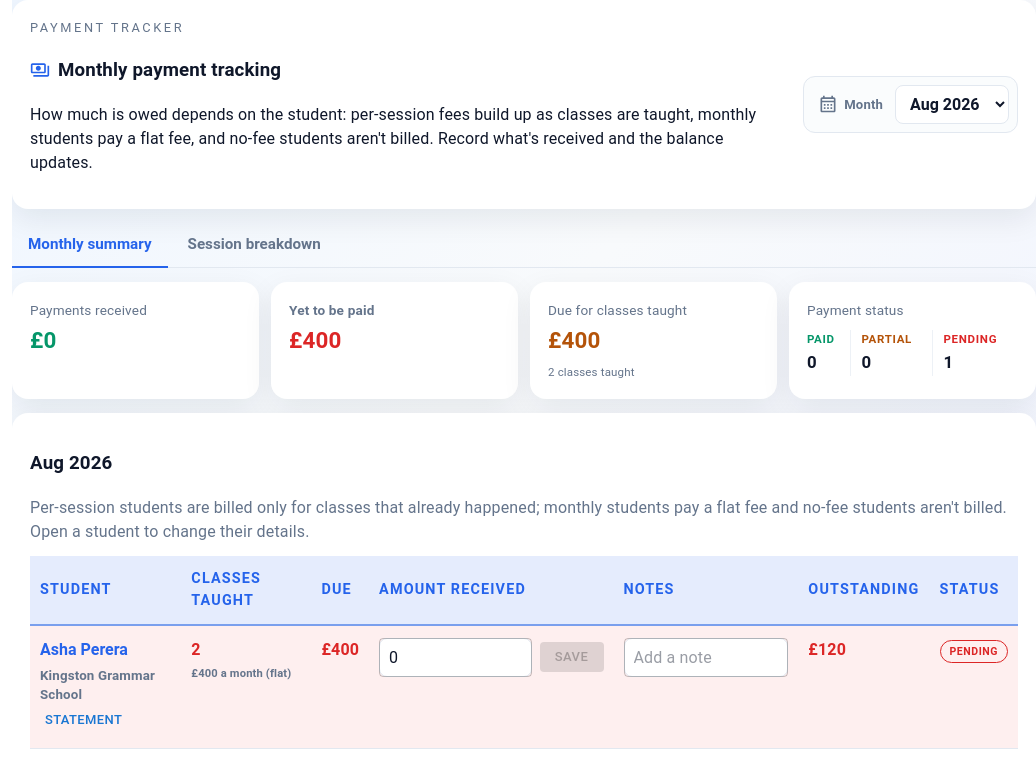
Test: PaymentTrackerView session breakdown › totals a monthly student once, without double-counting their classes
Click the tab "Session breakdown" at {"x": 254, "y": 245}, box [172, 223, 337, 268]
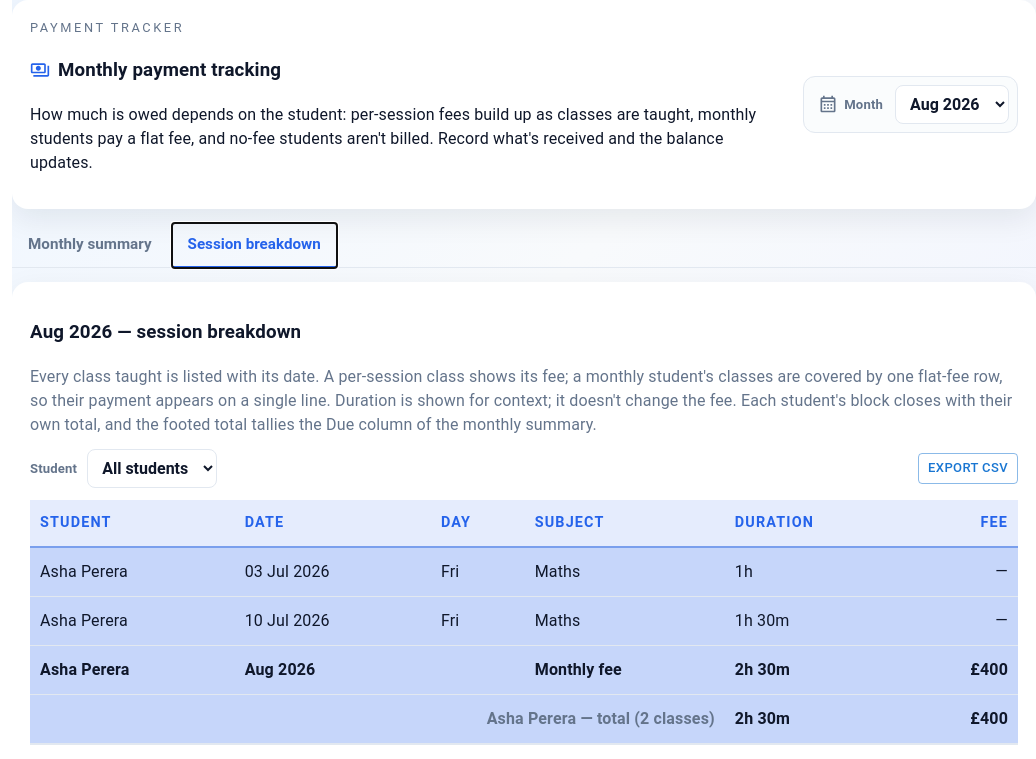
Expected: the text "£400" in the row of "— total (" is shown, [970, 709, 1008, 728]
Expected: the text "2h 30m" in the row of "— total (" is shown, [735, 709, 790, 728]
